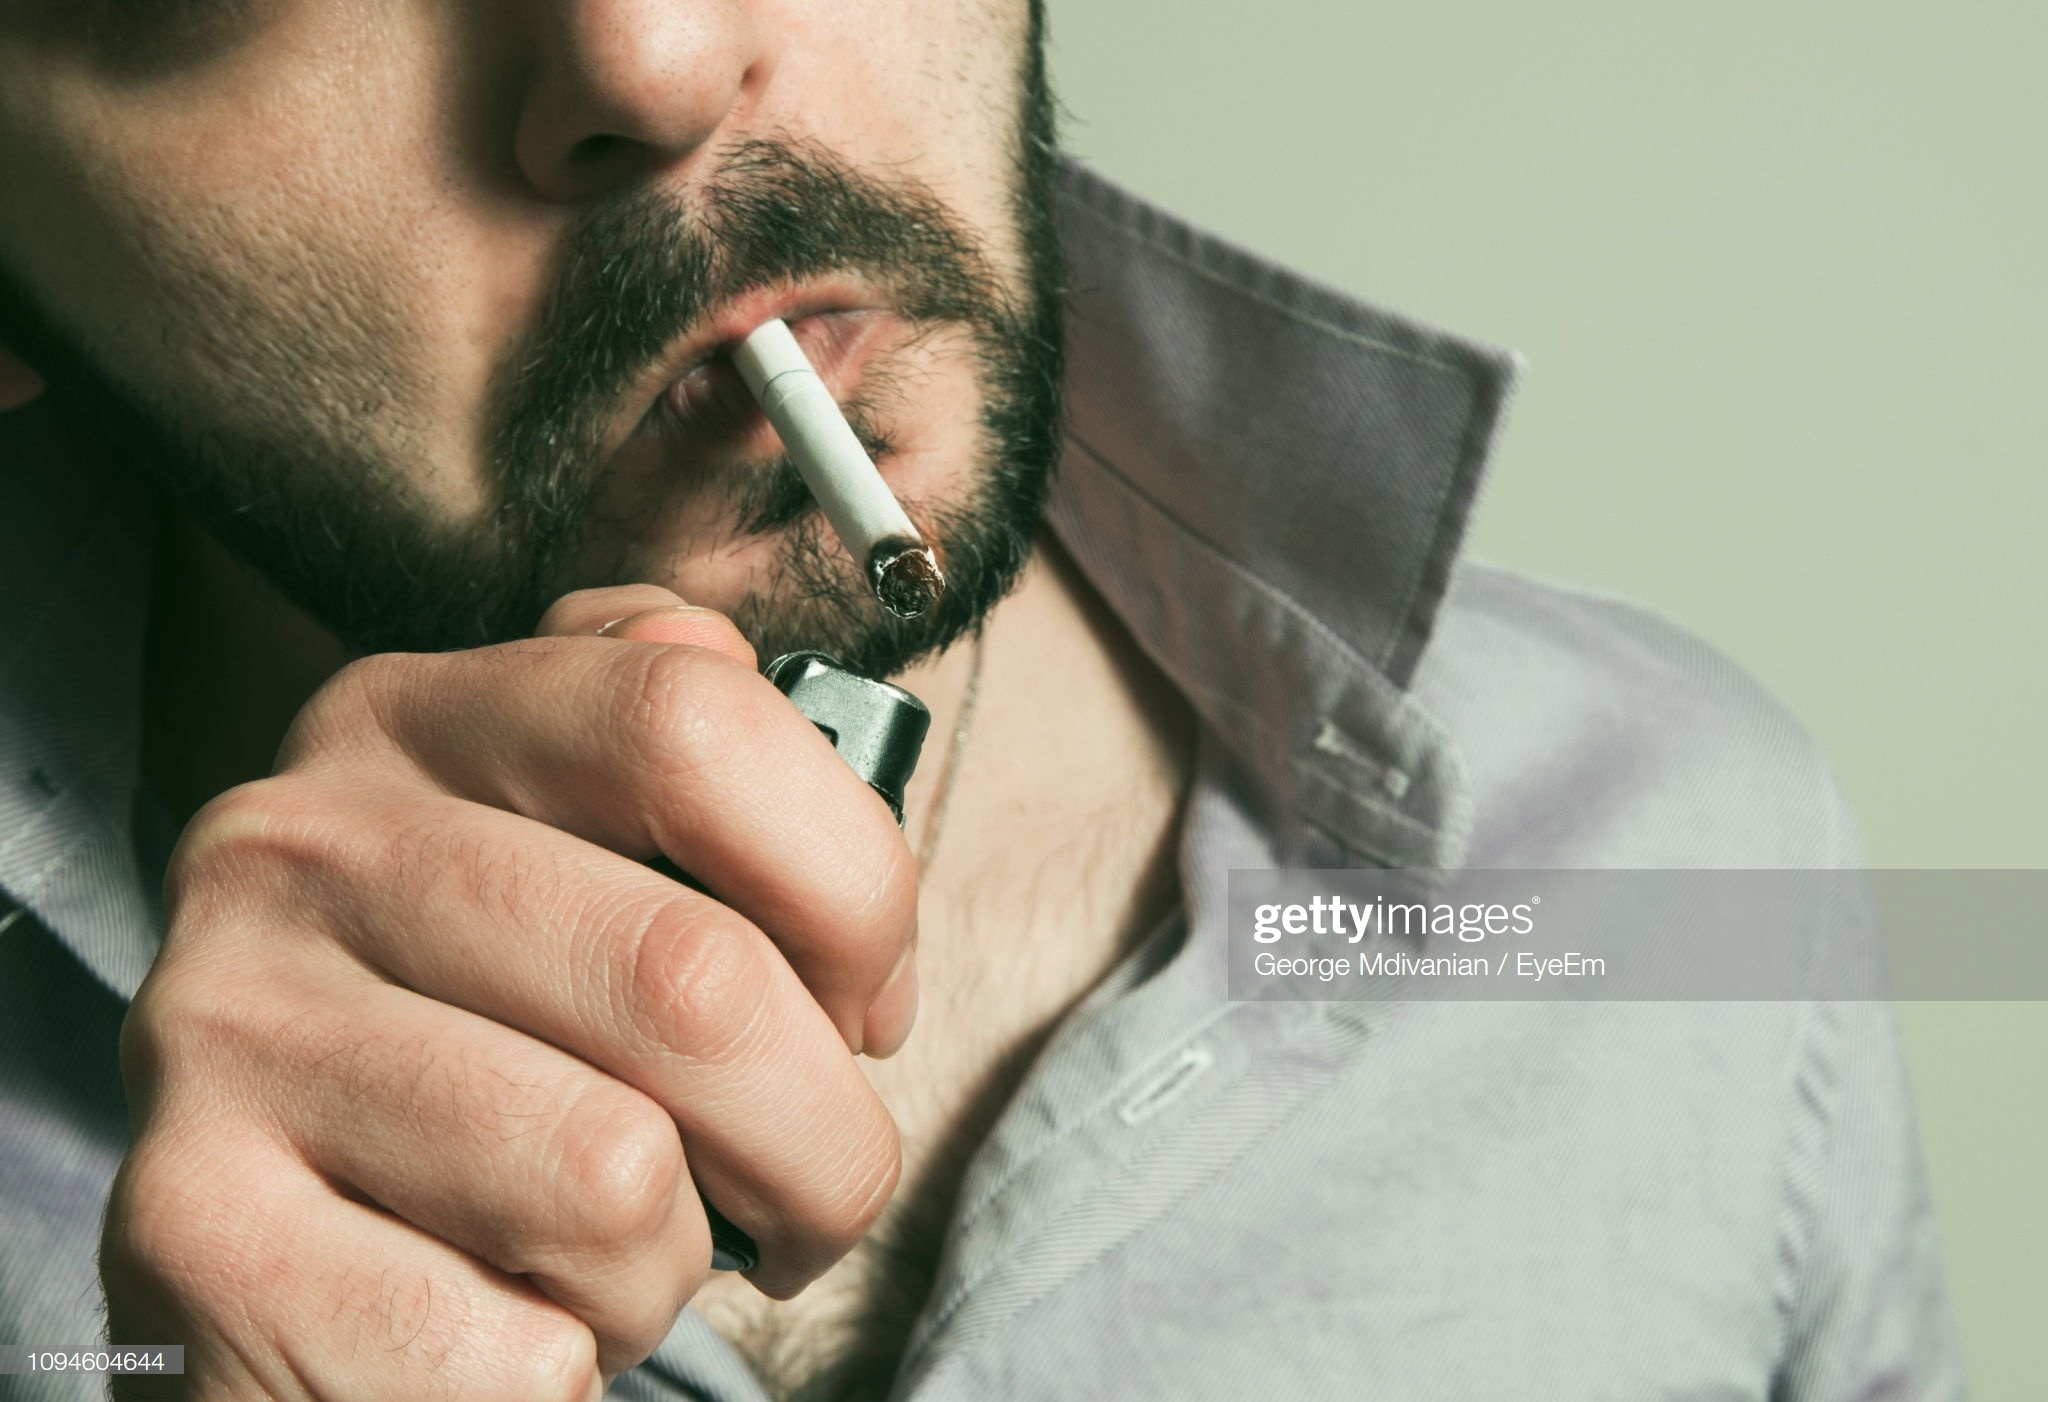sigaretta: (717, 299, 918, 612)
